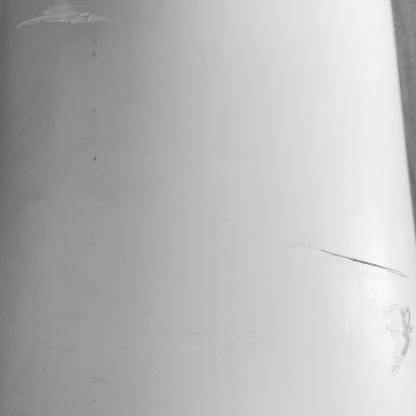sunshang: (316, 246, 410, 279), (385, 303, 416, 374), (20, 2, 103, 24)
